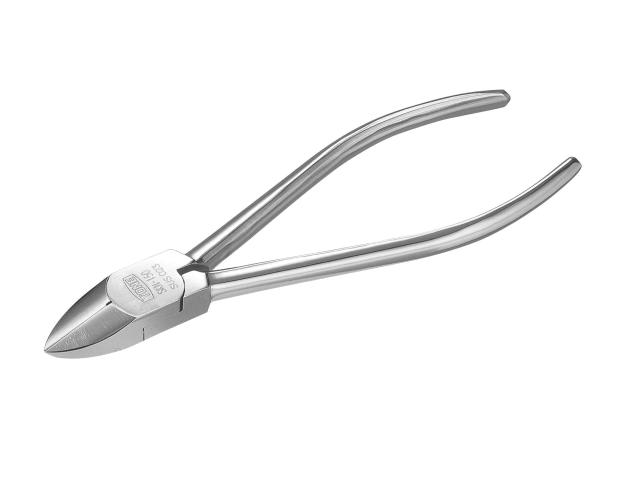Cutting pliers: (45, 91, 580, 358)
